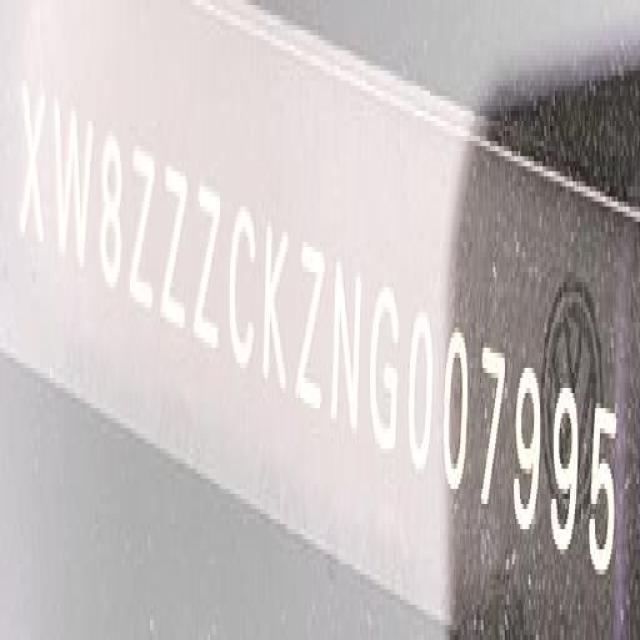0: (406, 294, 437, 481), (441, 310, 469, 500)
5: (589, 387, 620, 584)
7: (479, 332, 508, 526)
8: (99, 126, 126, 298)
9: (550, 376, 582, 564), (514, 351, 544, 545)
C: (227, 195, 257, 376)
G: (372, 269, 406, 461)
K: (262, 214, 290, 403)
N: (329, 248, 368, 444)
W: (51, 81, 95, 282)
X: (18, 65, 48, 265)
Z: (294, 241, 326, 416), (195, 168, 224, 358), (161, 151, 188, 340), (131, 134, 158, 320)
